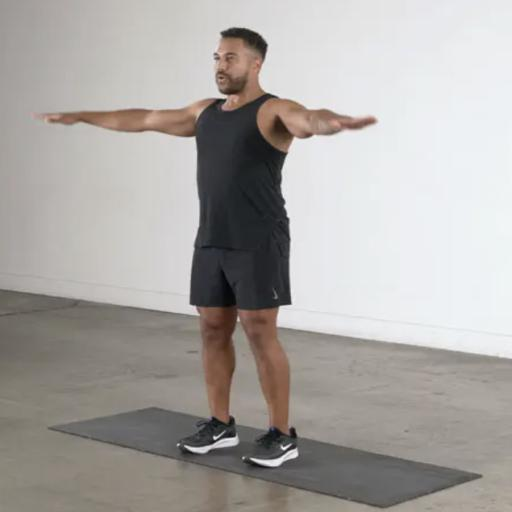Normal_Dips: (4, 7, 394, 443)
